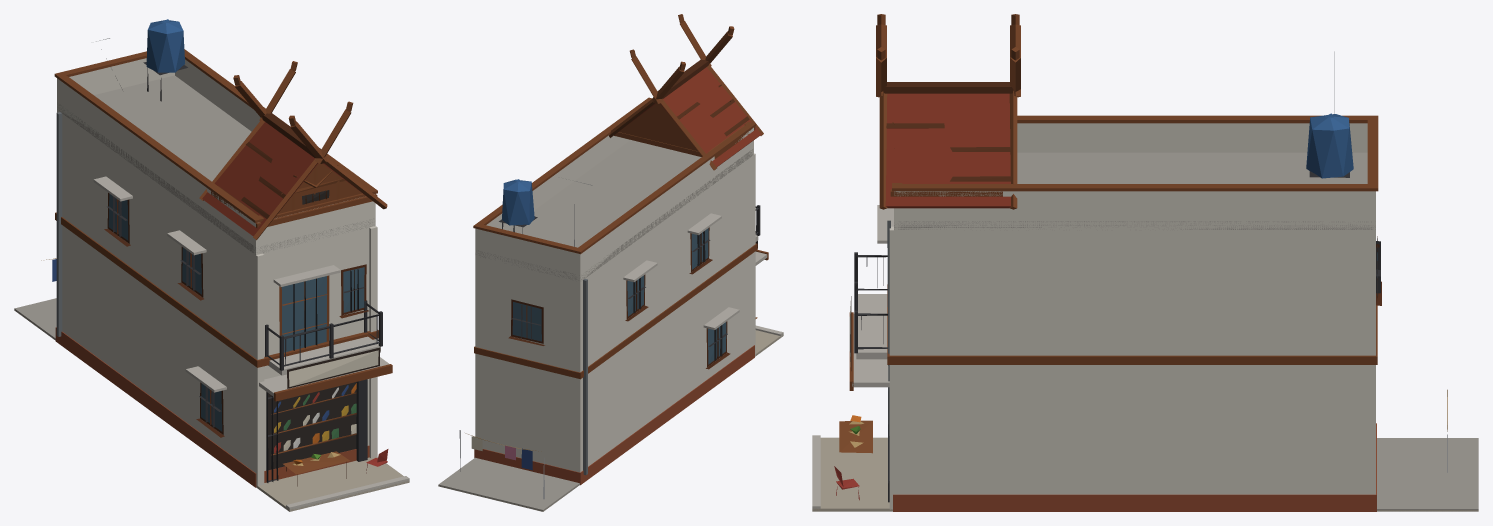
File: bay1_left.glb
3 renders of one model, left to right at view 1: azimuth 30°, elevation 25°; view 2: azimuth 150°, elevation 25°; view 3: azimuth 270°, elevation 25°, orthographic. The views are drawn at different scales.
Parts seen in each view (by area): view 1: body, windows; view 2: body, windows; view 3: body.
Part boxes in pixels (bbox=[...]): body: bbox=[14, 19, 409, 511]; windows: bbox=[108, 190, 364, 470]; body: bbox=[438, 14, 783, 511]; windows: bbox=[512, 228, 726, 364]; body: bbox=[812, 14, 1478, 511].
Size of the model in its own units: 4.66 by 11.72 by 15.9.
